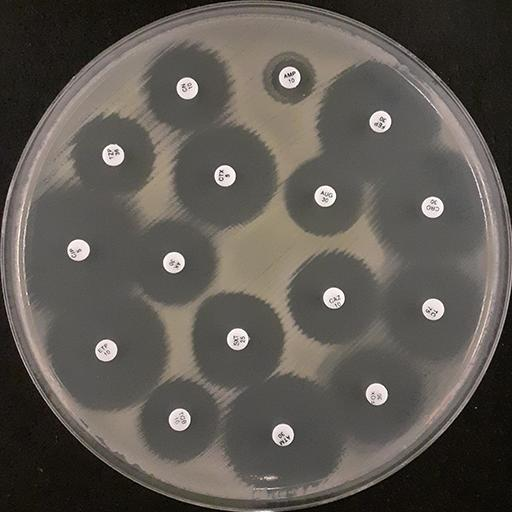disc: (67, 239, 91, 262), (176, 77, 199, 100), (278, 66, 301, 89), (102, 144, 125, 167), (421, 196, 444, 219), (95, 339, 118, 362), (168, 408, 191, 431), (272, 424, 295, 447), (365, 383, 388, 406), (369, 111, 392, 133), (422, 299, 445, 321), (323, 287, 346, 309), (227, 328, 249, 351), (214, 165, 236, 187), (163, 252, 185, 274), (314, 186, 337, 207)
